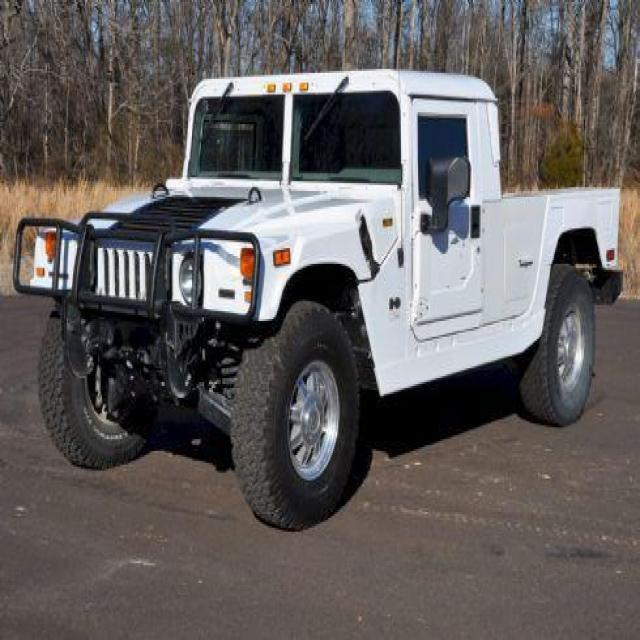damaged: (351, 203, 383, 276)
